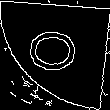O_E: (25, 31, 85, 79)
